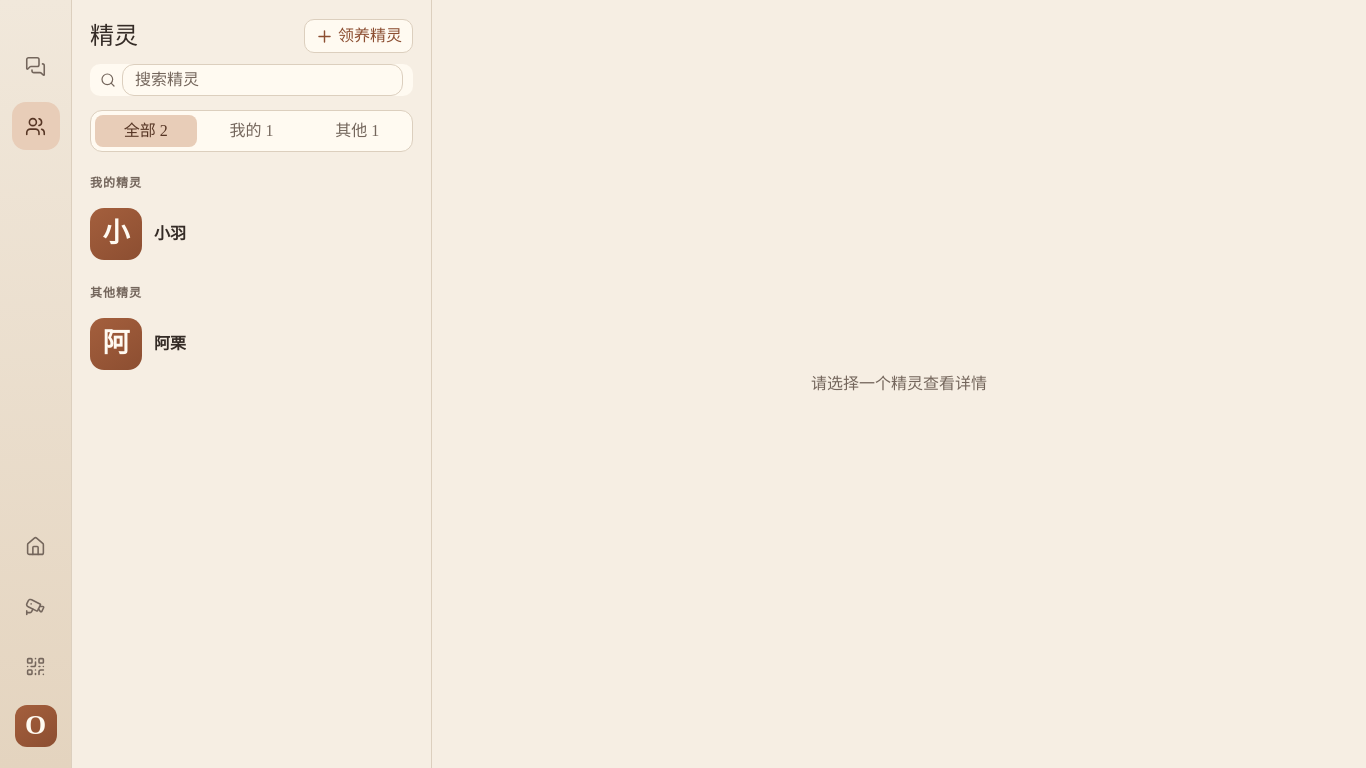
Test case: ChatPage list pane headings › keeps an unchatted other Elfie in the Elfie list but out of chat history
The width and height of the screenshot is (1366, 768).
Check: the text "阿栗" is shown, box 154,332 -> 186,356
Check: the heading "其他精灵" is shown, box 90,286 -> 142,300
Click the button named "聊天记录".
click(36, 66)  # box 12,42 -> 60,90
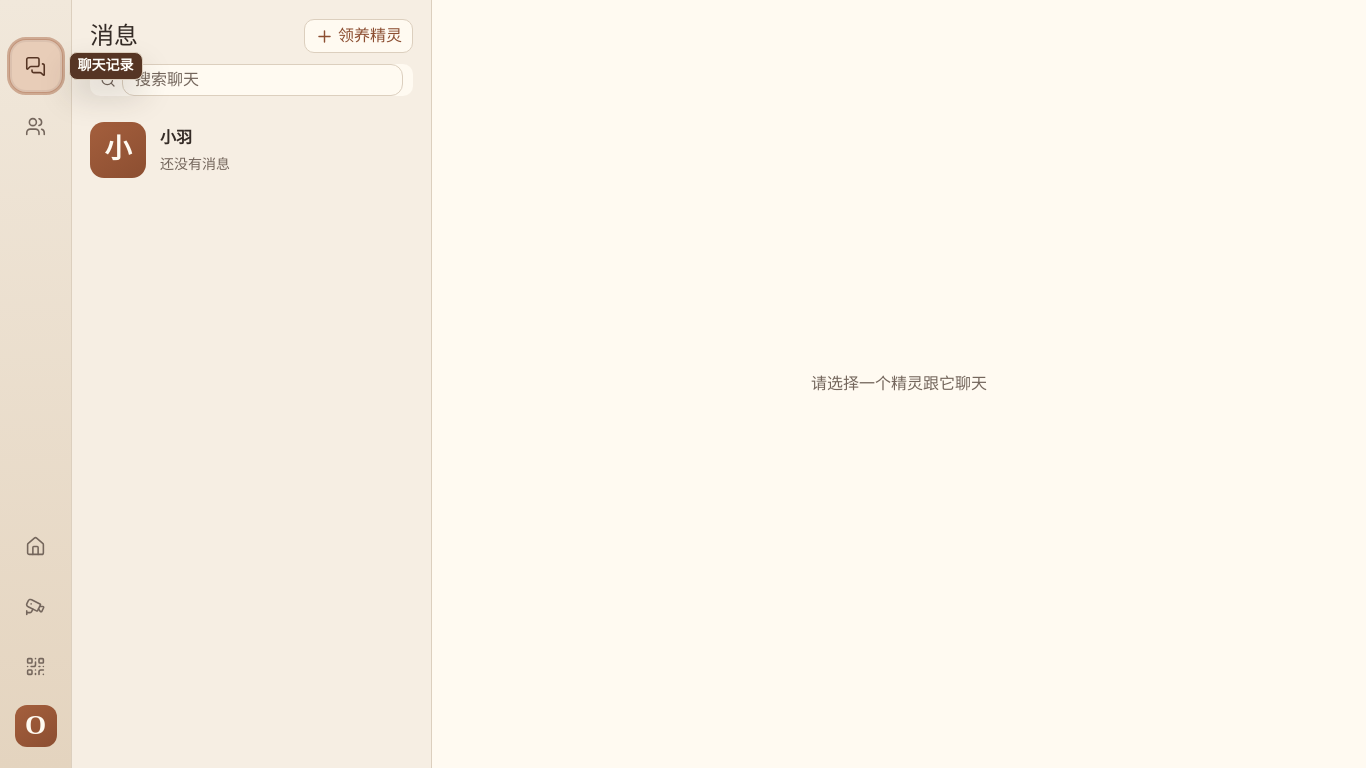
Check: the button "小 小羽 还没有消息" is shown, box 72,110 -> 421,190
Check: the button "阿栗" is gone
